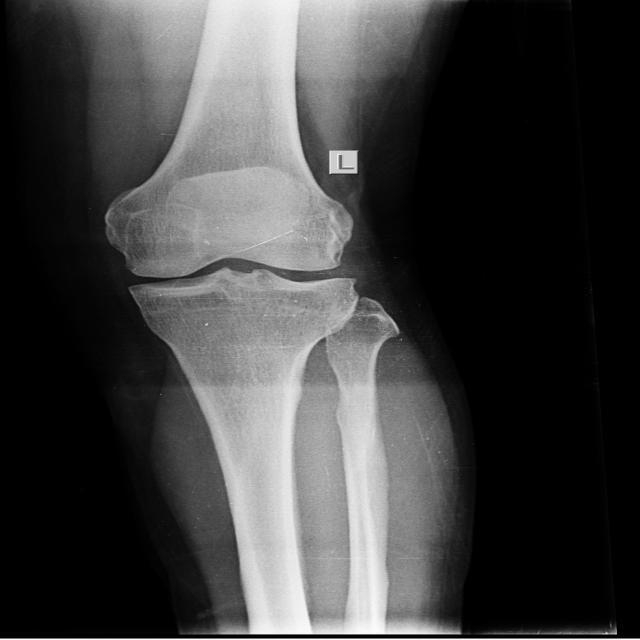normal: (94, 178, 356, 324)
